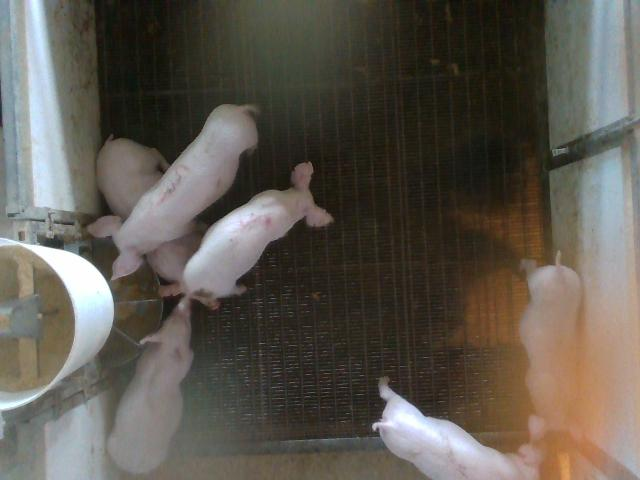pig-3: (89, 104, 258, 279)
pig-5: (182, 162, 332, 307)
